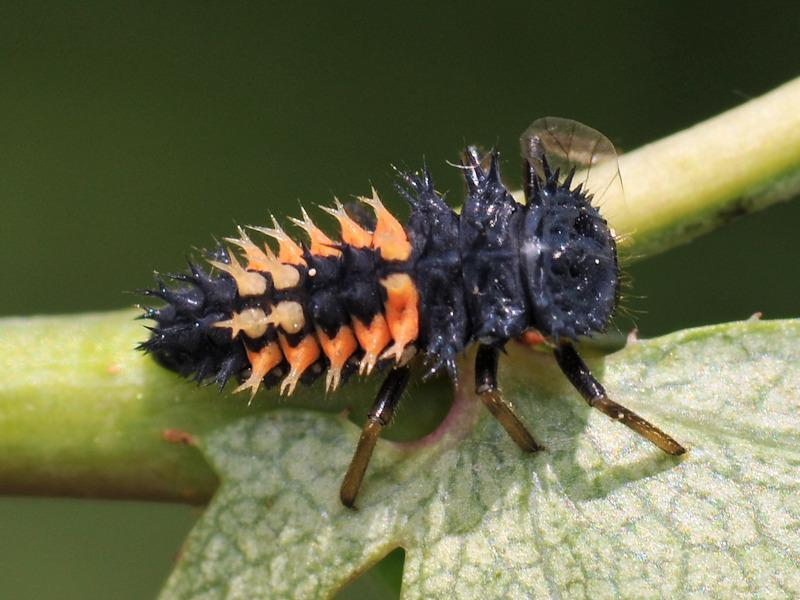ladybug: (131, 108, 689, 513)
